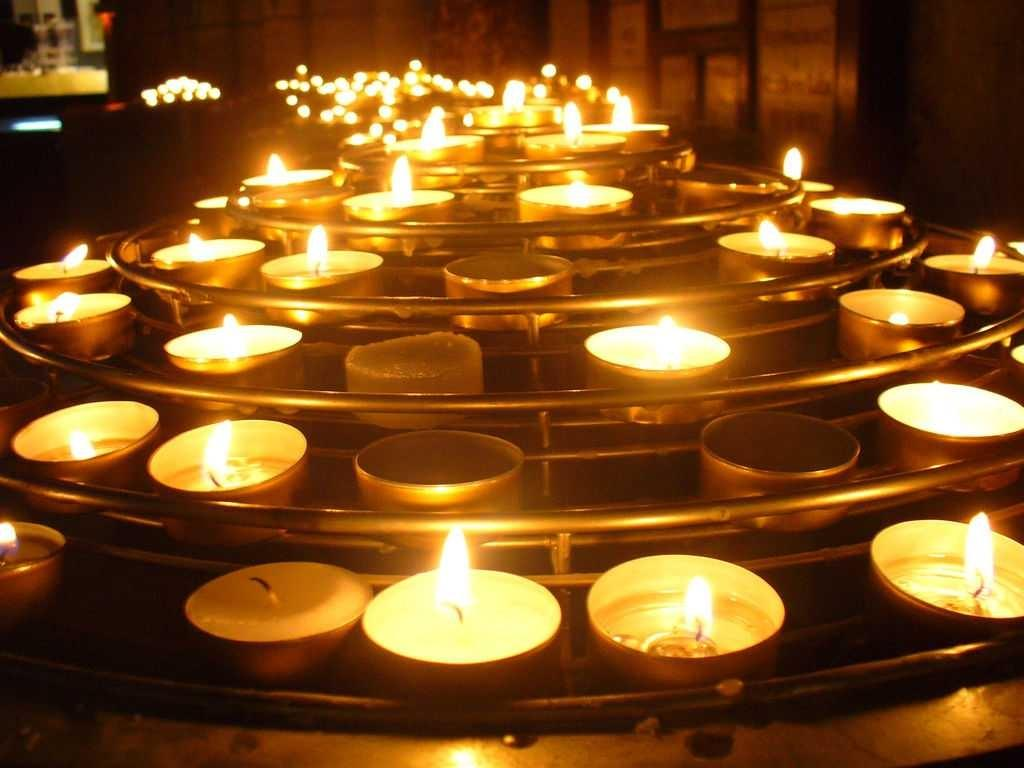fire: (430, 521, 479, 624), (964, 500, 998, 597), (201, 419, 243, 479), (683, 575, 721, 641), (215, 306, 247, 356), (60, 422, 96, 464), (389, 152, 417, 205), (652, 310, 682, 359), (751, 217, 787, 252), (419, 110, 448, 153), (63, 426, 97, 461), (970, 232, 999, 273), (305, 225, 327, 279), (610, 94, 641, 131), (184, 225, 211, 266), (260, 152, 291, 187), (46, 291, 83, 320), (559, 175, 596, 204), (55, 241, 90, 270), (777, 149, 812, 178), (563, 100, 582, 144)
